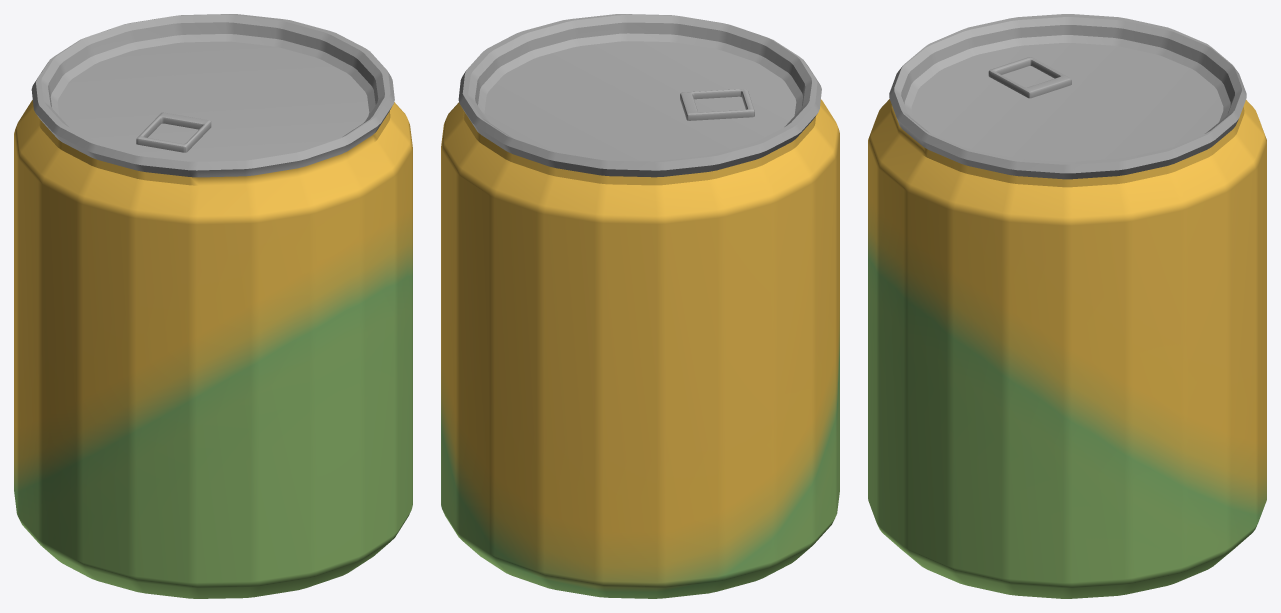
Rendered from Ürün25.fbx.
The picture shows the model from 3 angles, left to right: view 1: azimuth 30°, elevation 25°; view 2: azimuth 150°, elevation 25°; view 3: azimuth 270°, elevation 25°; orthographic projection.
Parts seen in each view (by area): view 1: Ürün3; view 2: Ürün3; view 3: Ürün3.
Part boxes in pixels (left/top/right/bottom): Ürün3: left=14, top=14, right=412, bottom=598; Ürün3: left=441, top=14, right=839, bottom=598; Ürün3: left=868, top=14, right=1266, bottom=598.
Size of the model in its own units: 11.57 by 14.02 by 11.57.
